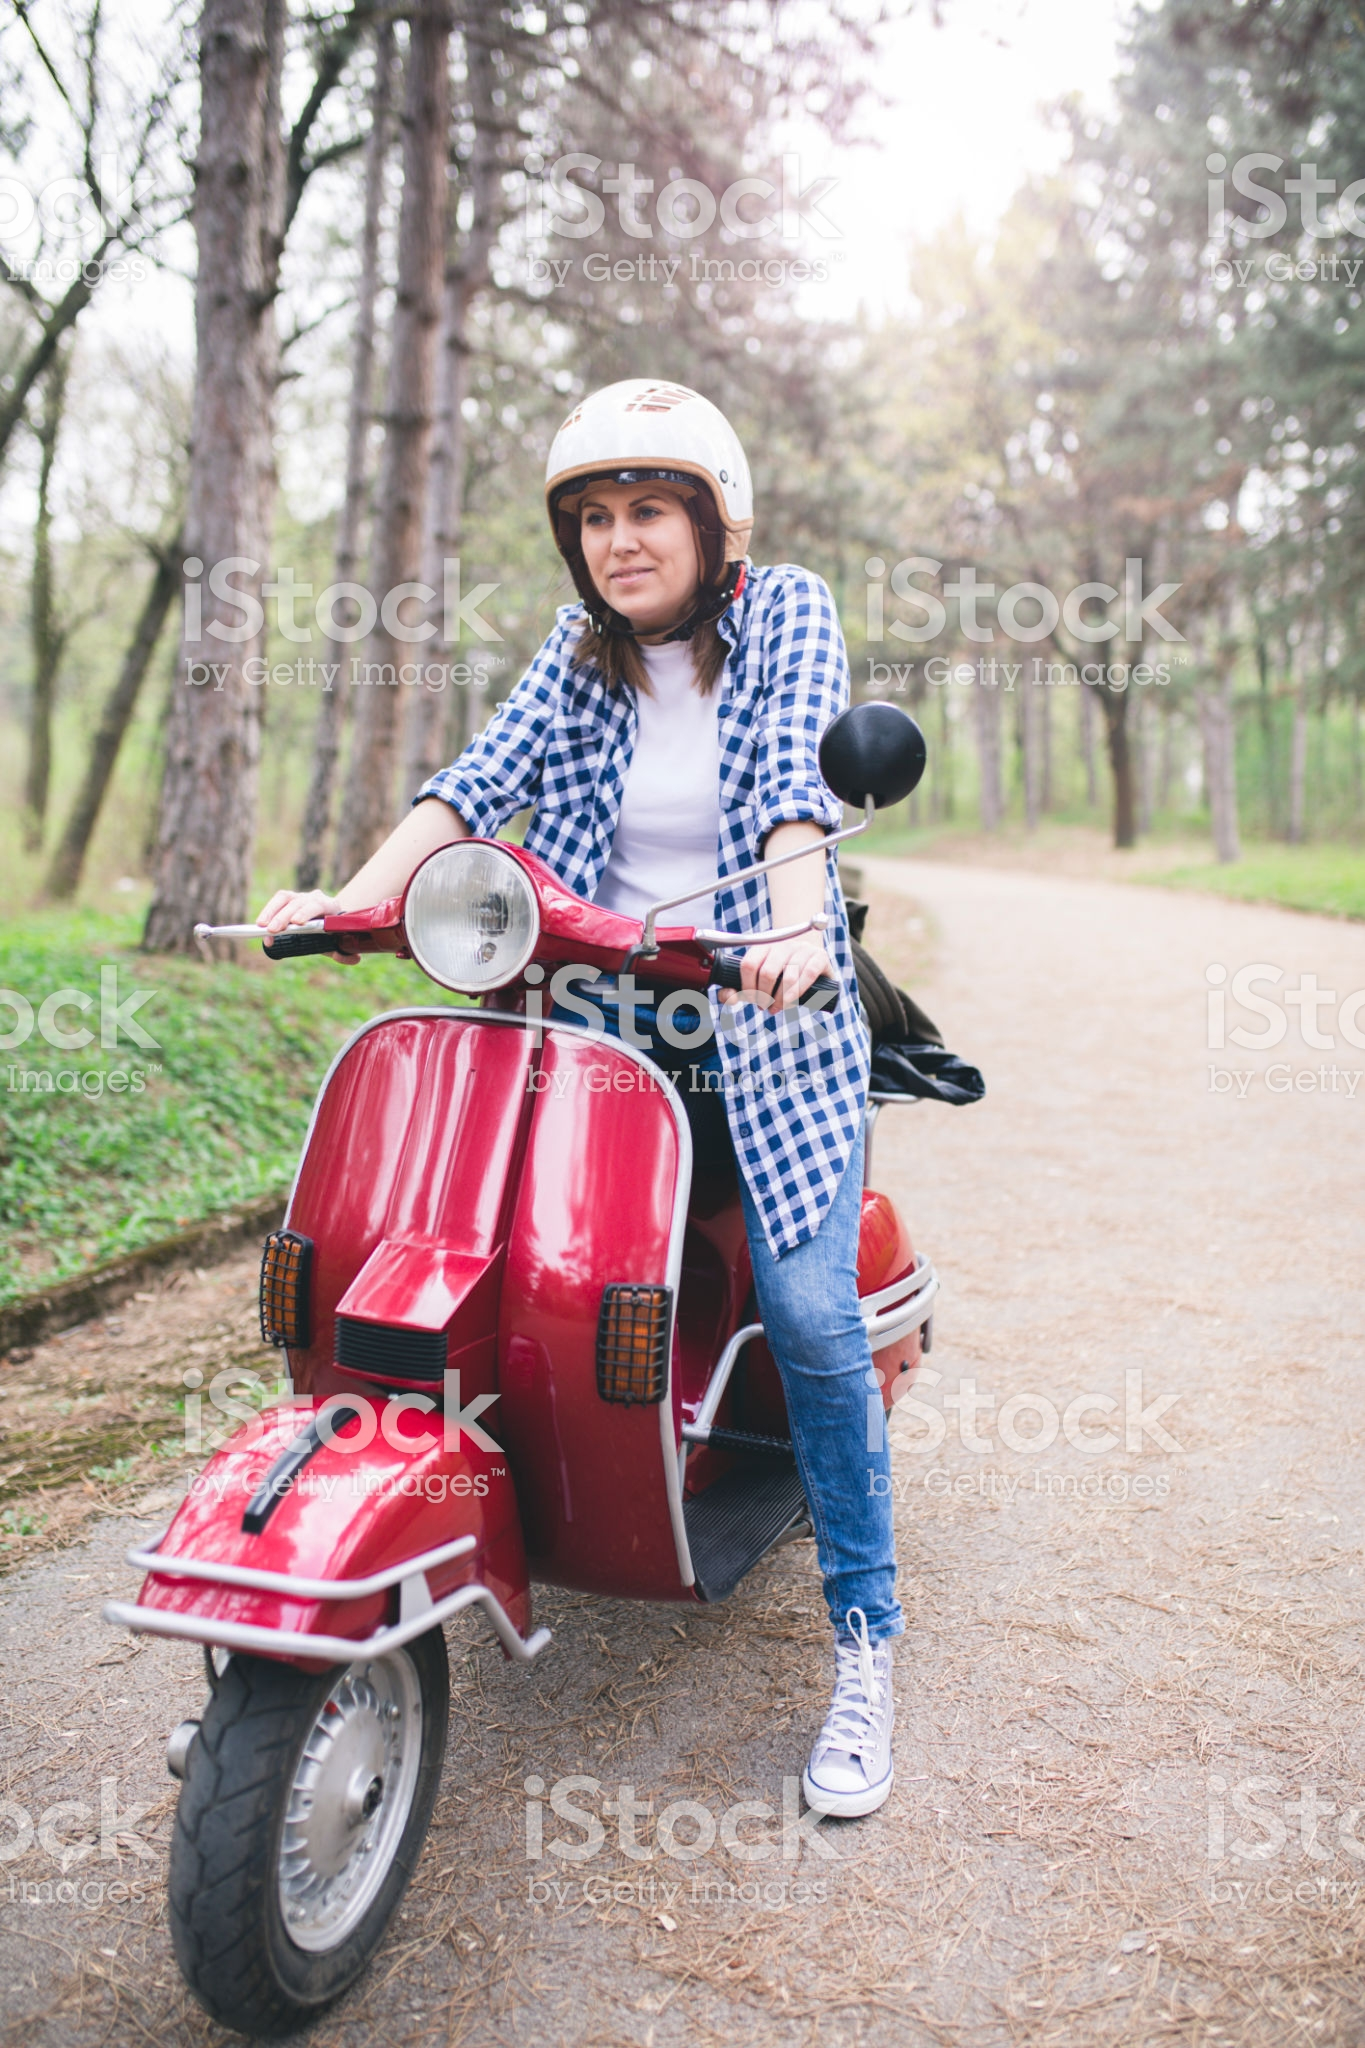helmet: (542, 359, 782, 573)
